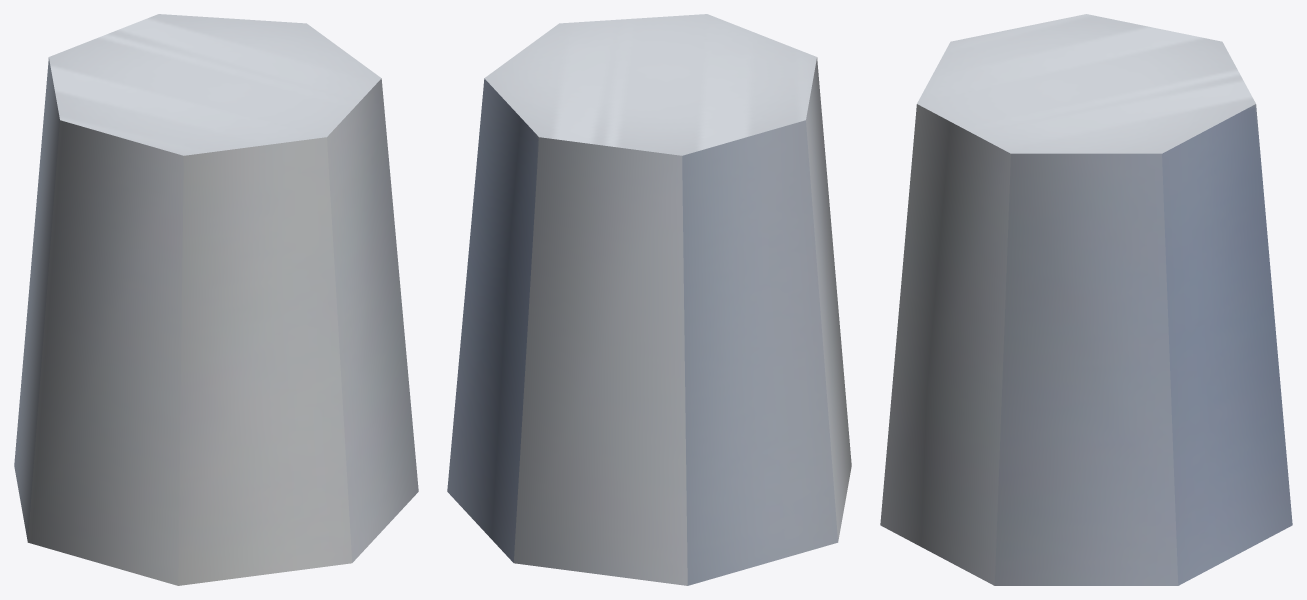
File: CBS_cafe_1F_TreeChair.FBX
3 renders of one model, left to right at view 1: azimuth 30°, elevation 25°; view 2: azimuth 150°, elevation 25°; view 3: azimuth 270°, elevation 25°, orthographic.
Parts seen in each view (by area): view 1: CBS_cafe_1F_TreeChair; view 2: CBS_cafe_1F_TreeChair; view 3: CBS_cafe_1F_TreeChair.
Part boxes in pixels (x1,y1,x2,y2): CBS_cafe_1F_TreeChair: (14, 14, 418, 585); CBS_cafe_1F_TreeChair: (447, 14, 851, 585); CBS_cafe_1F_TreeChair: (880, 14, 1292, 585).
Bounding box in the file's own units: 35.02 × 40.16 × 35.92.
